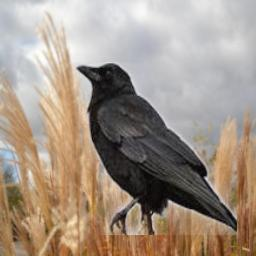Crow: (73, 62, 237, 235)
